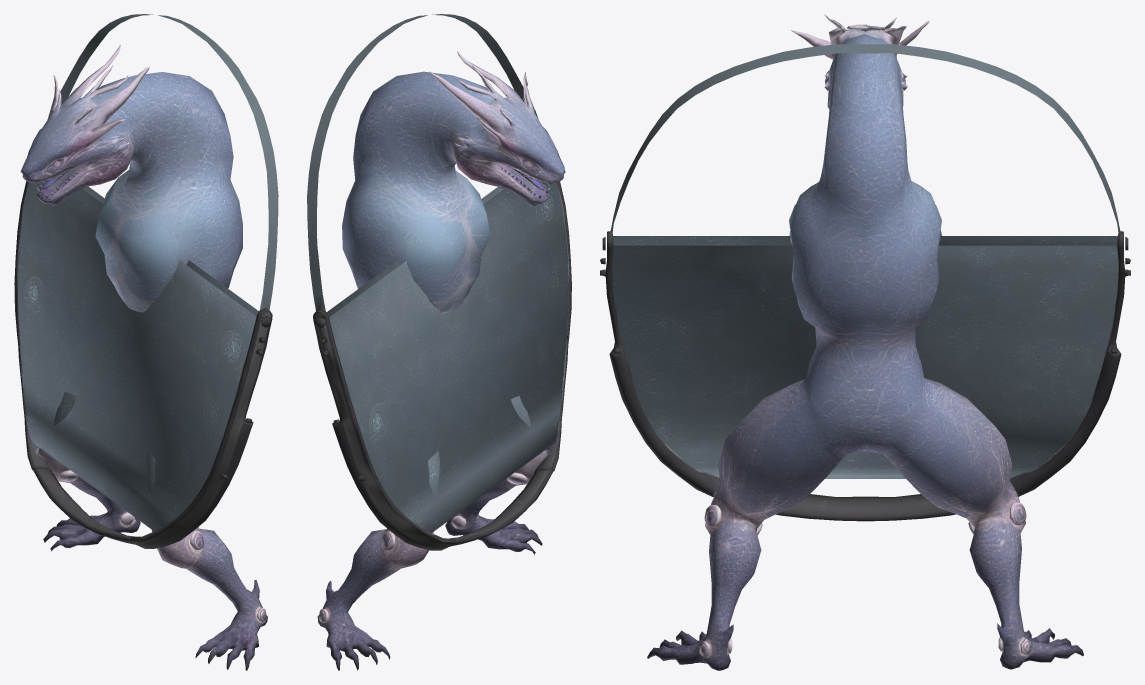
The model's file is 019e36ce-82bb-7878-af12-dfcf921280e8.glb.
3 renders of one model, left to right at view 1: azimuth 30°, elevation 25°; view 2: azimuth 150°, elevation 25°; view 3: azimuth 270°, elevation 25°, orthographic. The views are drawn at different scales.
Visible parts, largest first — view 1: tripo_node_cb3a1a6a-96f4-4ab1-9433-8056dc970c63; view 2: tripo_node_cb3a1a6a-96f4-4ab1-9433-8056dc970c63; view 3: tripo_node_cb3a1a6a-96f4-4ab1-9433-8056dc970c63.
Boxes of the visible parts, x1,y1,x2,y2 form: tripo_node_cb3a1a6a-96f4-4ab1-9433-8056dc970c63: (14, 14, 278, 670); tripo_node_cb3a1a6a-96f4-4ab1-9433-8056dc970c63: (307, 14, 571, 670); tripo_node_cb3a1a6a-96f4-4ab1-9433-8056dc970c63: (600, 14, 1130, 670).
Size of the model in its own units: 0.3887 by 0.998 by 0.752.
1 material, 1 textured.
